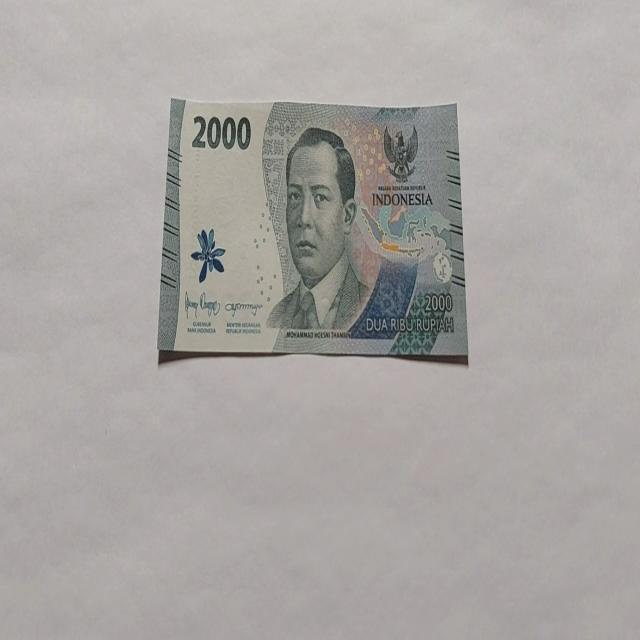dua ribu rupiah: (156, 95, 468, 365), (264, 125, 372, 336)
